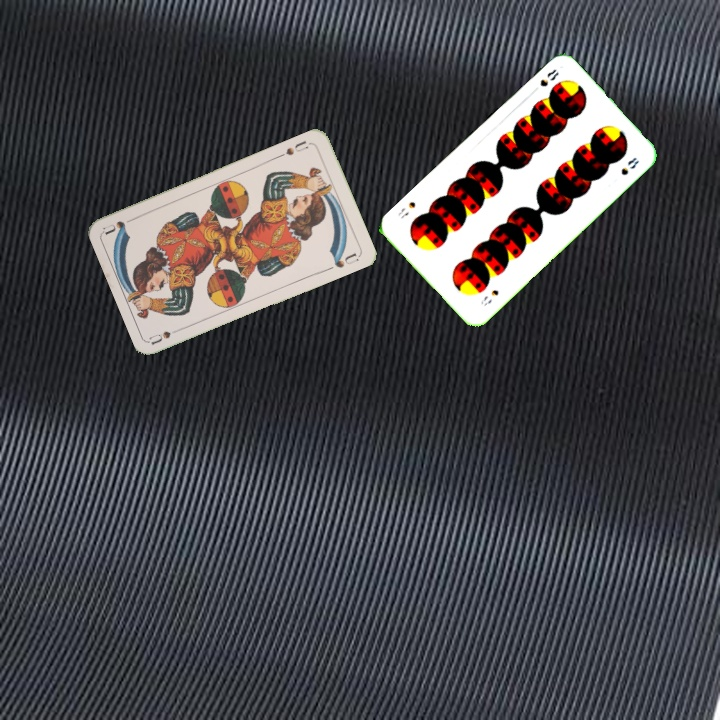S8: (536, 65, 561, 89), (476, 286, 501, 308)
SU: (146, 323, 186, 347), (275, 137, 311, 160)
